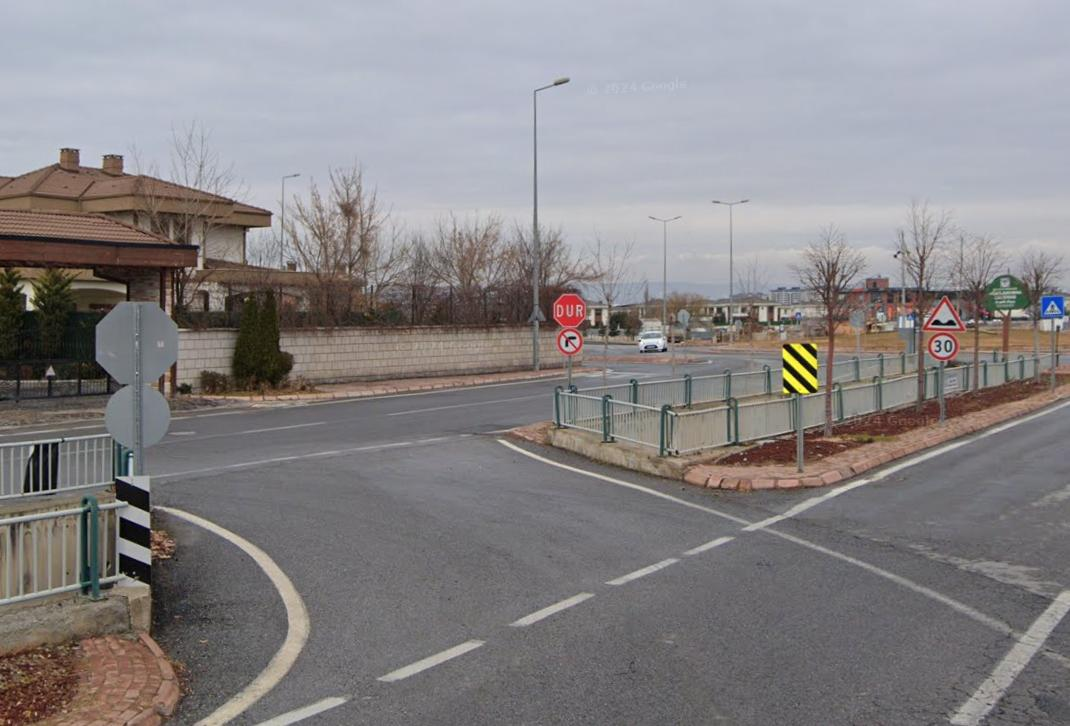rightturnsareforbidden: (556, 327, 584, 356)
stop: (552, 294, 589, 327)
